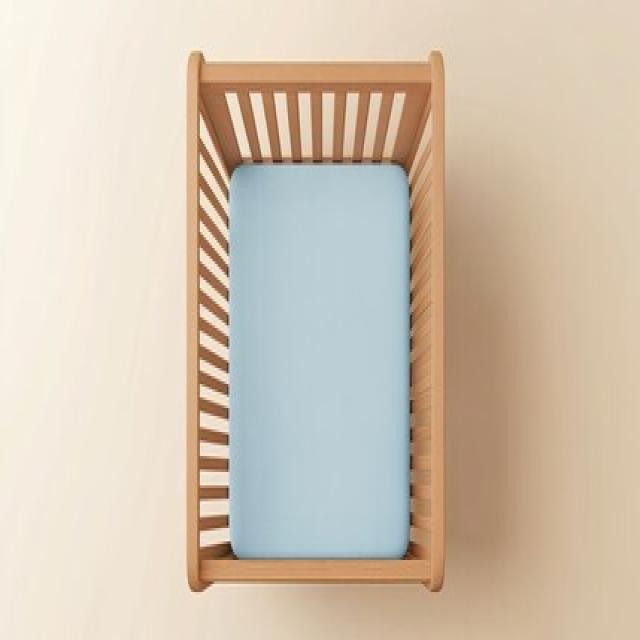crib: (184, 45, 446, 592)
